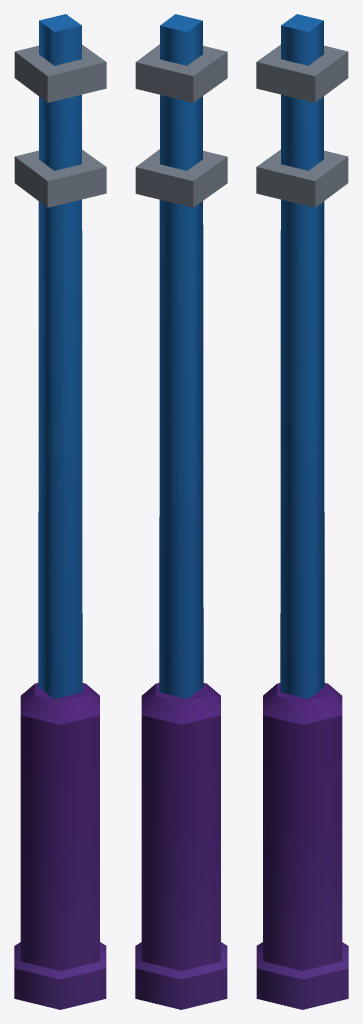
Rendered from SignHolder_3_B.fbx.
3 renders of one model, left to right at view 1: azimuth 30°, elevation 25°; view 2: azimuth 150°, elevation 25°; view 3: azimuth 330°, elevation 25°, orthographic.
Parts seen in each view (by area): view 1: SignHolder_3_B; view 2: SignHolder_3_B; view 3: SignHolder_3_B.
Boxes of the visible parts, bbox=[...] form: SignHolder_3_B: bbox=[14, 14, 106, 1009]; SignHolder_3_B: bbox=[135, 14, 227, 1009]; SignHolder_3_B: bbox=[256, 14, 348, 1009].
Bounding box in the file's own units: 28.06 × 281 × 24.3.
